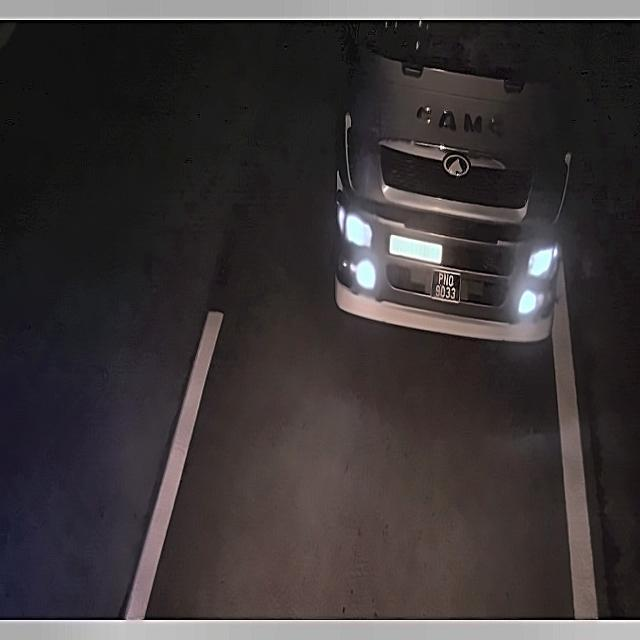car: (427, 261, 461, 308)
